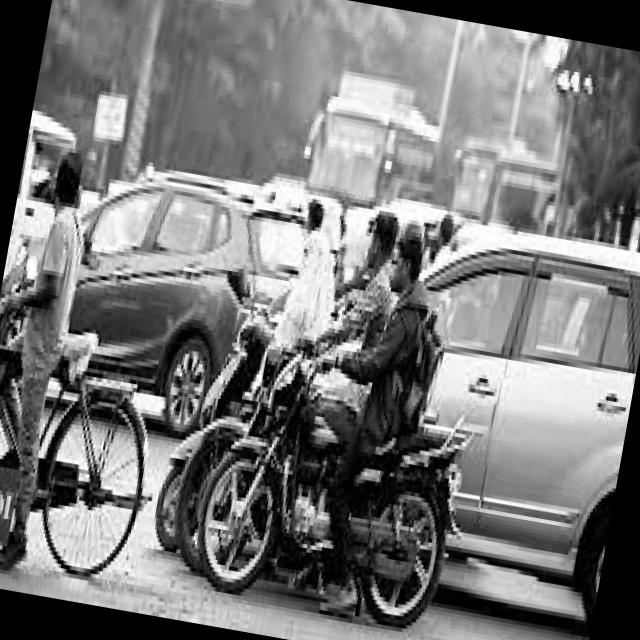bike: (197, 360, 340, 593), (350, 433, 463, 627)
bus: (309, 71, 439, 204)
car: (428, 236, 640, 616), (71, 171, 306, 434), (212, 210, 253, 265)
person: (320, 225, 426, 615), (0, 152, 83, 572), (325, 211, 398, 348)
